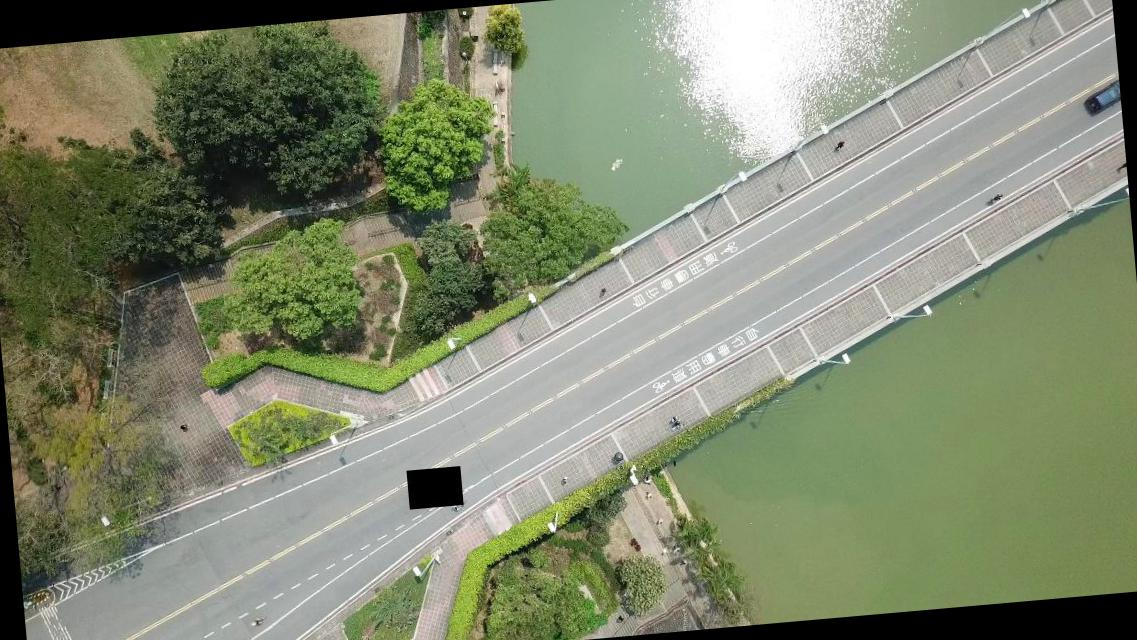vehicle: (1083, 80, 1121, 115)
